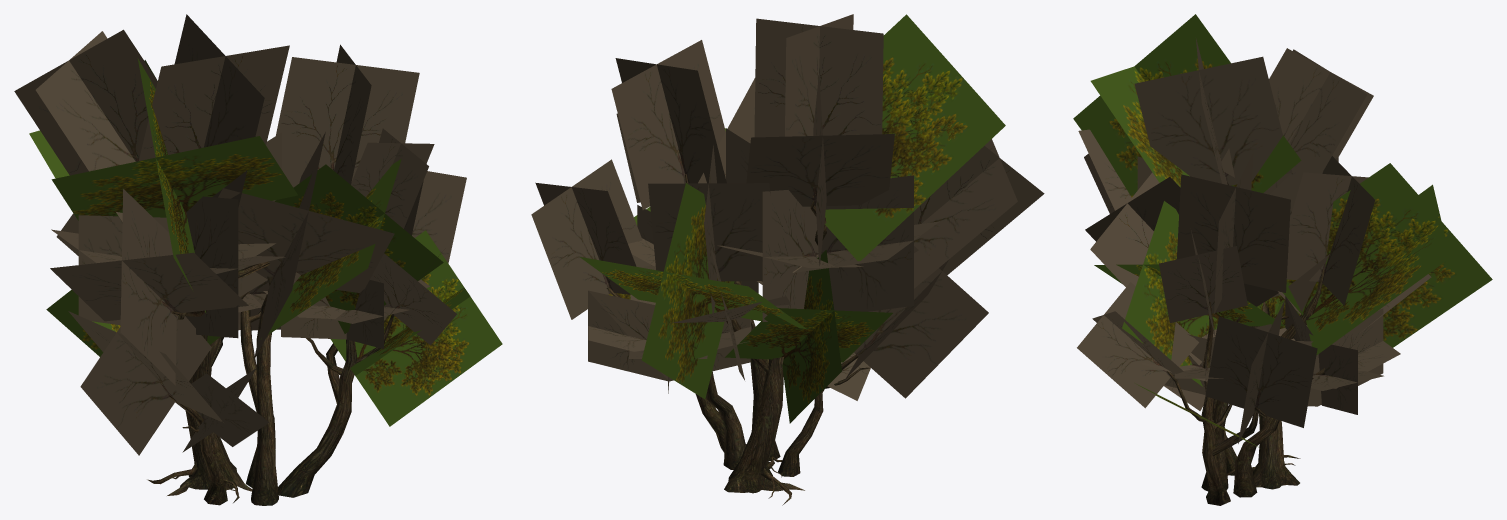
The model's file is zhaozeshu_62.FBX.
The picture shows the model from 3 angles, left to right: view 1: azimuth 30°, elevation 25°; view 2: azimuth 150°, elevation 25°; view 3: azimuth 270°, elevation 25°; orthographic projection. The views are drawn at different scales.
Visible parts, largest first — view 1: zhaozeshu_62_shuzhi, zhaozeshu_62_shuye, zhaozeshu_62_ncl1_2; view 2: zhaozeshu_62_shuzhi, zhaozeshu_62_shuye, zhaozeshu_62_ncl1_2; view 3: zhaozeshu_62_shuzhi, zhaozeshu_62_shuye, zhaozeshu_62_ncl1_2.
Part boxes in pixels (x1,y1,x2,y2): zhaozeshu_62_shuzhi: (14,14,466,455); zhaozeshu_62_shuye: (29,58,502,426); zhaozeshu_62_ncl1_2: (147,261,394,505); zhaozeshu_62_shuzhi: (531,14,1044,400); zhaozeshu_62_shuye: (580,14,1005,423); zhaozeshu_62_ncl1_2: (606,174,869,505); zhaozeshu_62_shuzhi: (1077,38,1431,443); zhaozeshu_62_shuye: (1073,14,1492,447); zhaozeshu_62_ncl1_2: (1166,182,1324,505).
Size of what is drawn, in the model's own units: 1774 by 1763 by 1614.
